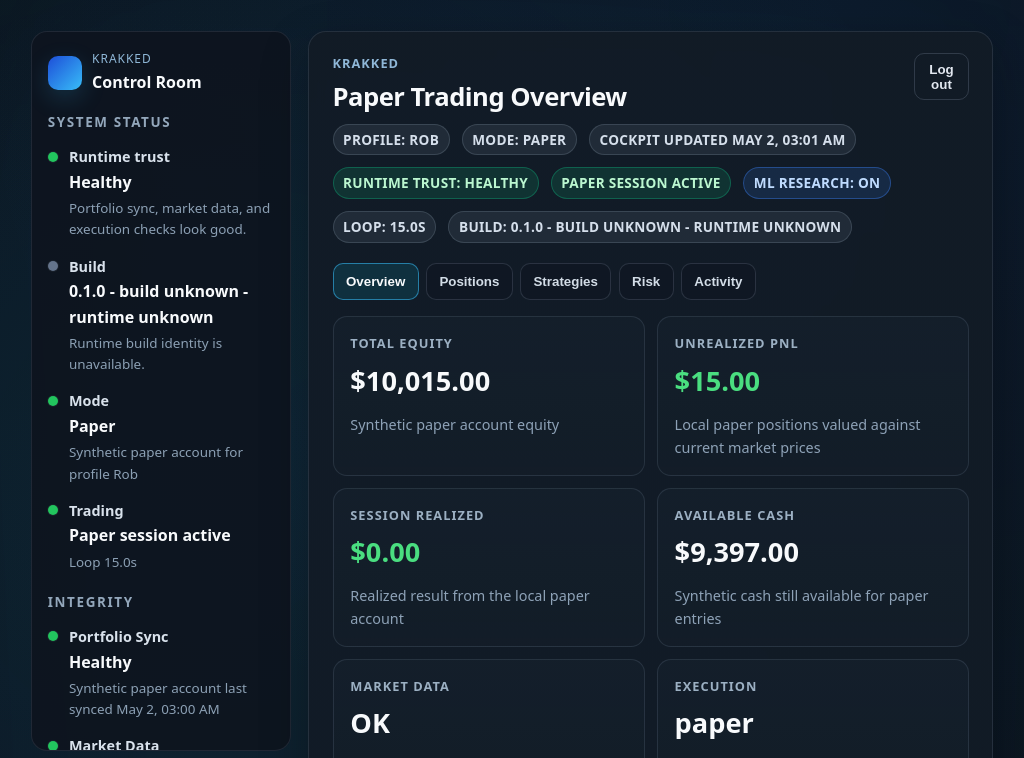
Test: cockpit operator paths › shows unavailable operator path rows explicitly
The image size is (1024, 758).
Expected: the heading "Paper Trading Overview" is shown, x1=332 y1=79 x2=627 y2=114
Expected: the text "Runtime trust: Healthy" is shown, x1=332 y1=167 x2=539 y2=199
Step 1. Click the button with test id "cockpit-tab-positions" → point(469, 281), box x1=426 y1=263 x2=513 y2=300
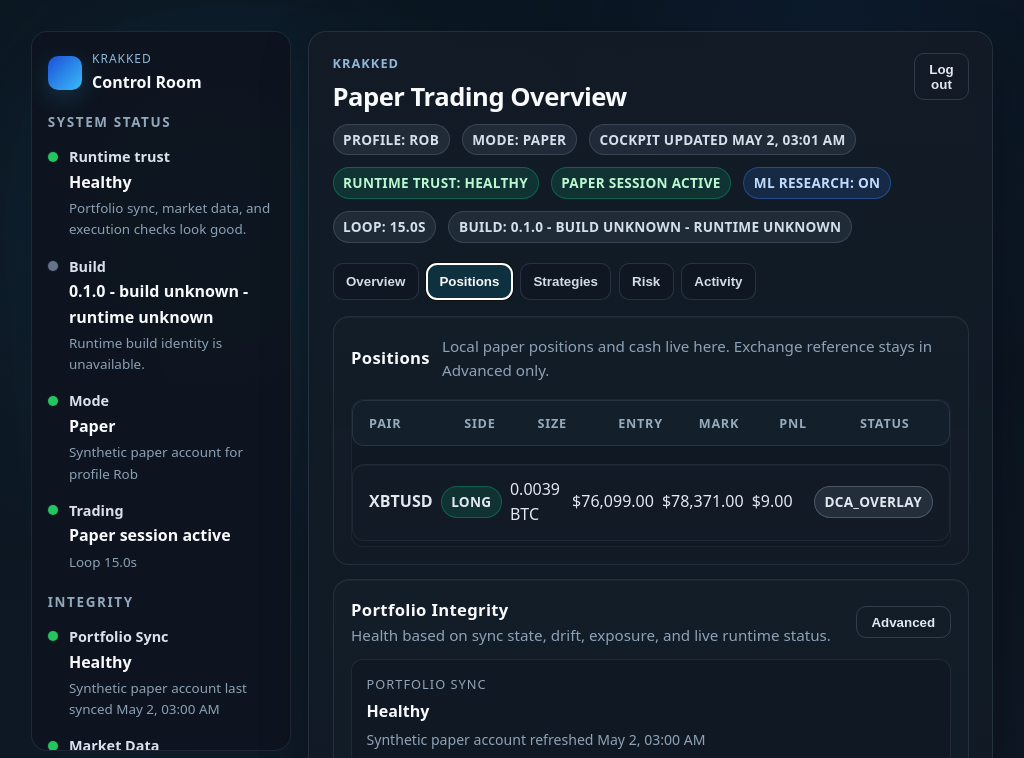
Step 2. Click the button "Advanced" → point(903, 622), box x1=856 y1=606 x2=950 y2=638
(page scrolled)
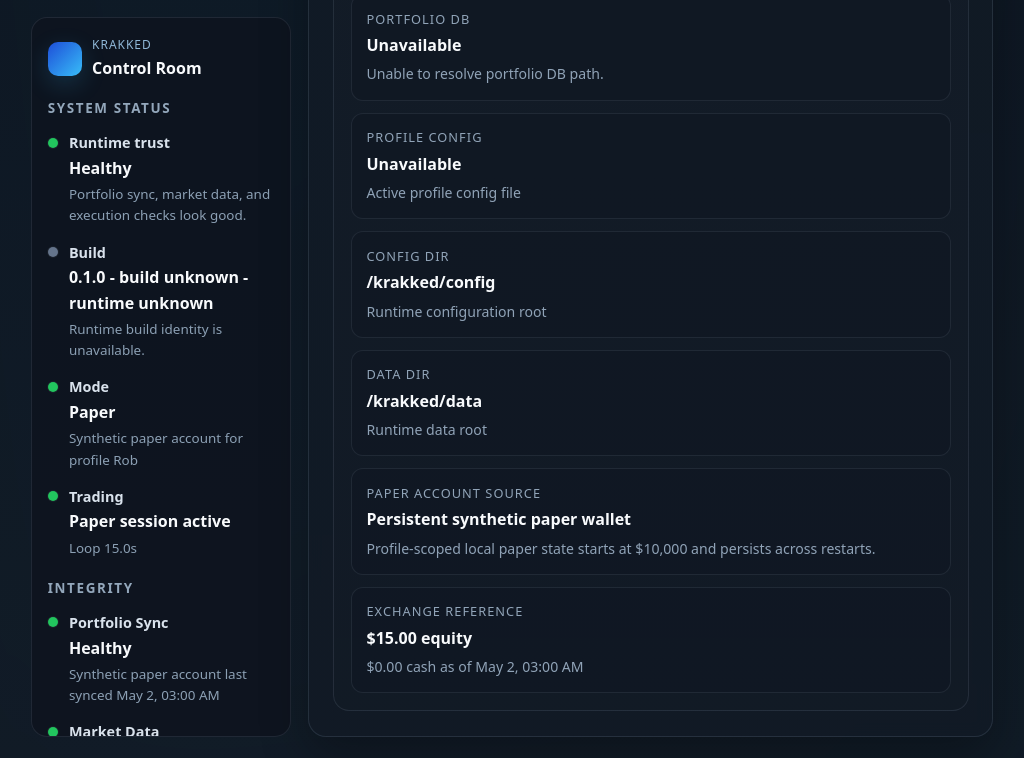
Expected: the text "Portfolio DB" is shown, x1=366 y1=10 x2=470 y2=28
Expected: the text "Profile config" is shown, x1=366 y1=128 x2=482 y2=146
Expected: the text "Unable to resolve portfolio DB path." is shown, x1=366 y1=64 x2=604 y2=83
